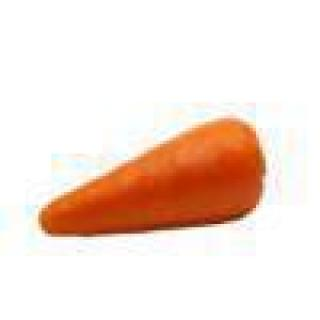Wortel: (17, 103, 283, 270)
